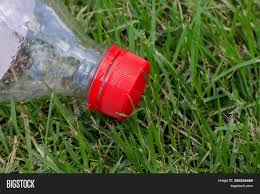plastic_bottle: (1, 1, 150, 122)
